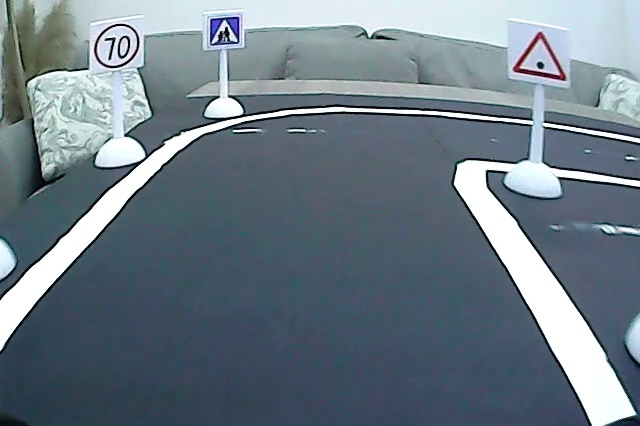green light: (509, 28, 571, 84)
school crossing: (207, 14, 241, 47)
speed limit 70: (90, 20, 139, 71)
